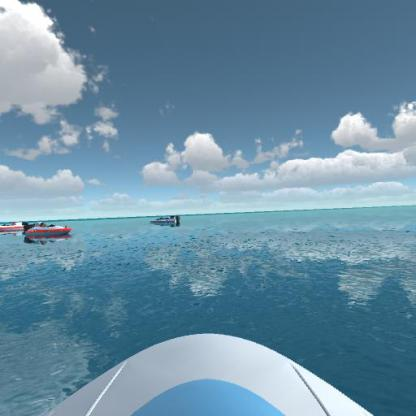usv1: (147, 214, 181, 228)
usv3: (22, 219, 75, 242), (1, 218, 30, 235)
